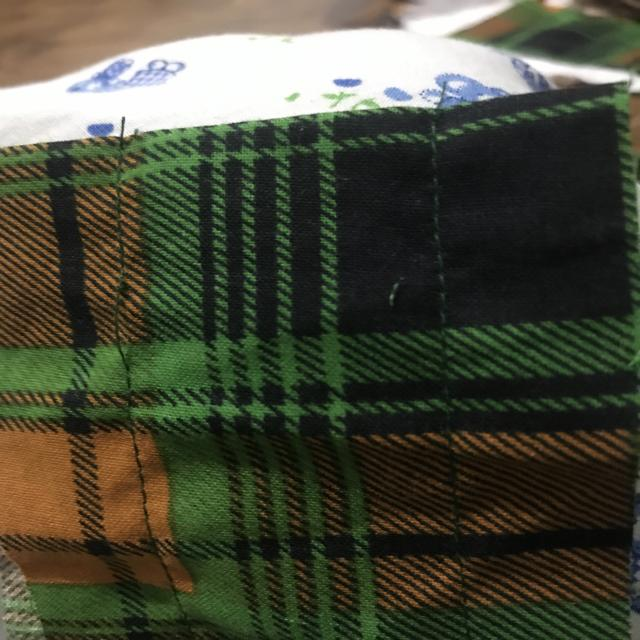good: (119, 442, 156, 522)
skip: (98, 268, 144, 391)
